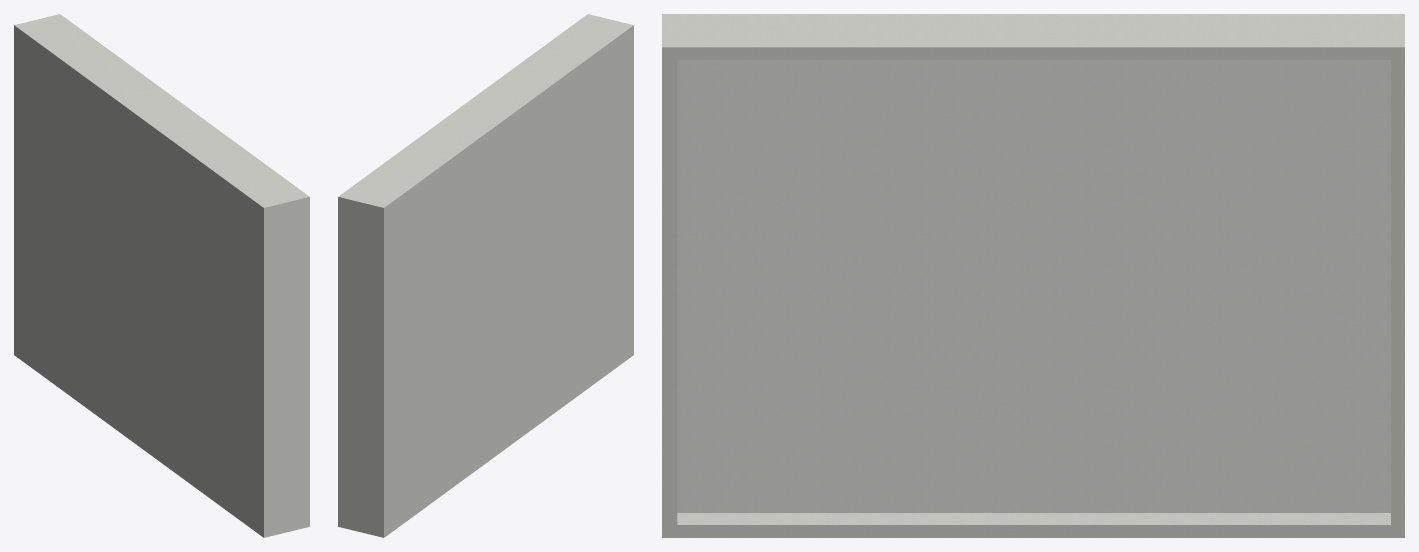
Rendered from xray_light.glb.
3 renders of one model, left to right at view 1: azimuth 30°, elevation 25°; view 2: azimuth 150°, elevation 25°; view 3: azimuth 270°, elevation 25°, orthographic. The views are drawn at different scales.
Parts seen in each view (by area): view 1: xray_light; view 2: xray_light; view 3: xray_light.
Boxes of the visible parts, box(x1,y1,x2,y2) form: xray_light: box(14, 14, 309, 537); xray_light: box(338, 14, 633, 537); xray_light: box(662, 14, 1404, 537).
Size of the model in its own units: 0.0935 by 0.6417 by 0.8804.
Materials: 2 (2 with a texture image).
